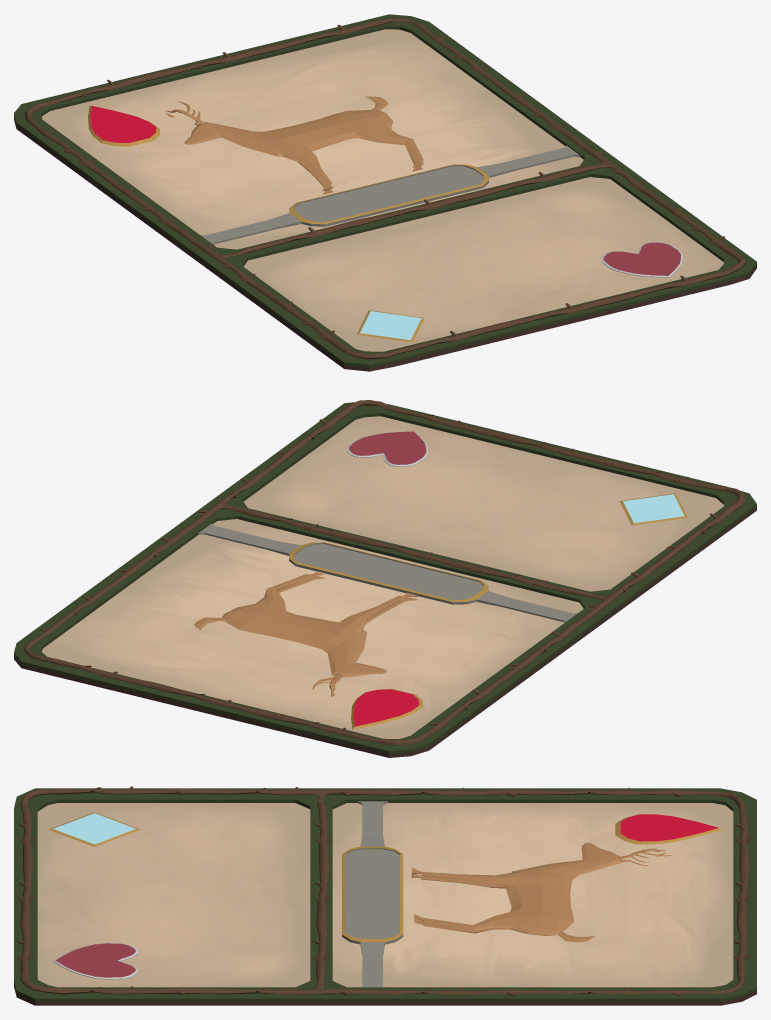
The model's file is Deer_Card.fbx.
3 renders of one model, top to bottom at view 1: azimuth 30°, elevation 25°; view 2: azimuth 150°, elevation 25°; view 3: azimuth 270°, elevation 25°, orthographic. The views are drawn at different scales.
Visible parts, largest first — view 1: Deer_Card; view 2: Deer_Card; view 3: Deer_Card.
Boxes of the visible parts, x1=… form: Deer_Card: x1=14, y1=14, x2=756, y2=371; Deer_Card: x1=14, y1=400, x2=756, y2=757; Deer_Card: x1=14, y1=786, x2=756, y2=1005.
Bounding box in the file's own units: 402 × 12.42 × 600.
